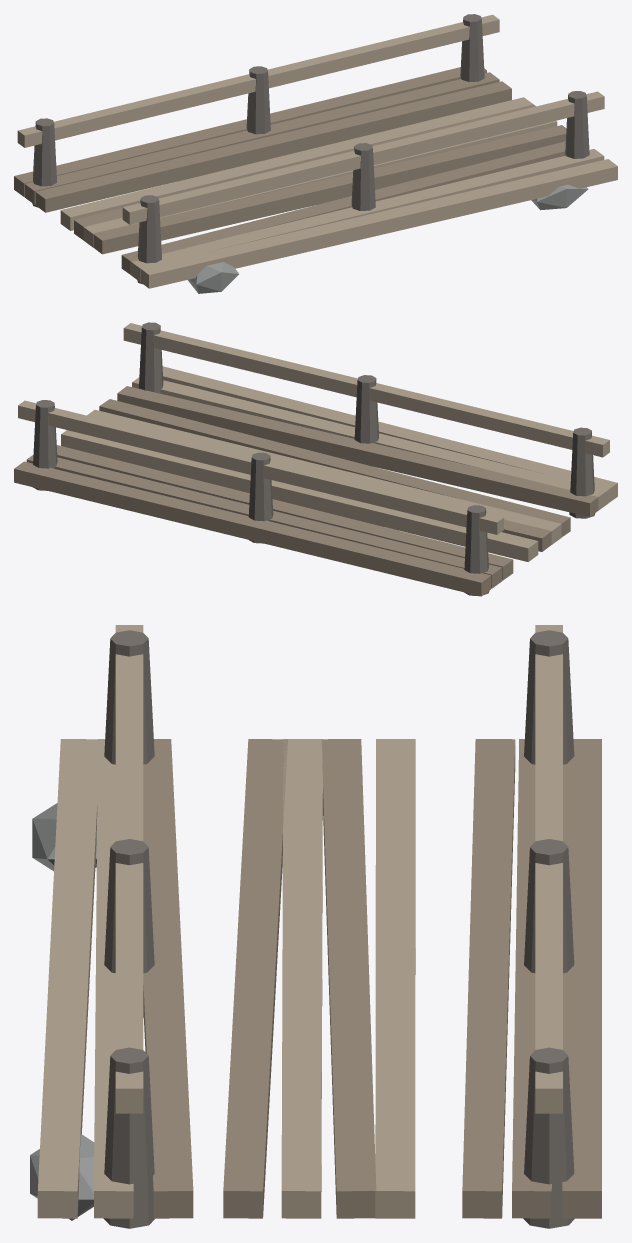
The model's file is svalich_splintered_bridge.glb.
The picture shows the model from 3 angles, top to bottom: view 1: azimuth 30°, elevation 25°; view 2: azimuth 150°, elevation 25°; view 3: azimuth 270°, elevation 25°; orthographic projection. The views are drawn at different scales.
Visible parts, largest first — view 1: material_01, material_00, material_02, material_03; view 2: material_01, material_00, material_02; view 3: material_00, material_01, material_02, material_03.
Boxes of the visible parts, <box> form: material_01: <box>17,14,617,288</box>; material_00: <box>14,67,566,273</box>; material_02: <box>32,14,589,284</box>; material_03: <box>188,184,588,293</box>; material_01: <box>18,323,617,561</box>; material_00: <box>14,386,598,596</box>; material_02: <box>33,322,595,596</box>; material_00: <box>143,739,601,1218</box>; material_01: <box>37,625,562,1218</box>; material_02: <box>103,630,574,1228</box>; material_03: <box>30,803,97,1220</box>.
Bounding box in the file's own units: 4 × 0.745 × 2.09.
